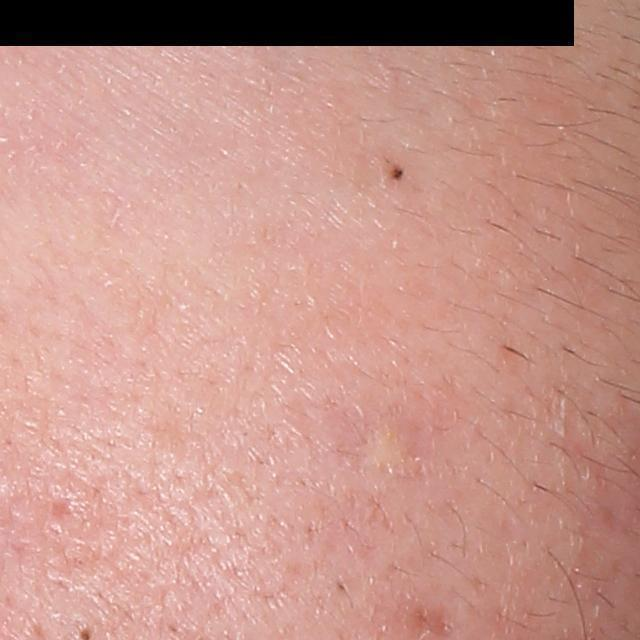atrophic_scar: (404, 595, 467, 639)
nevus: (390, 161, 408, 185)
